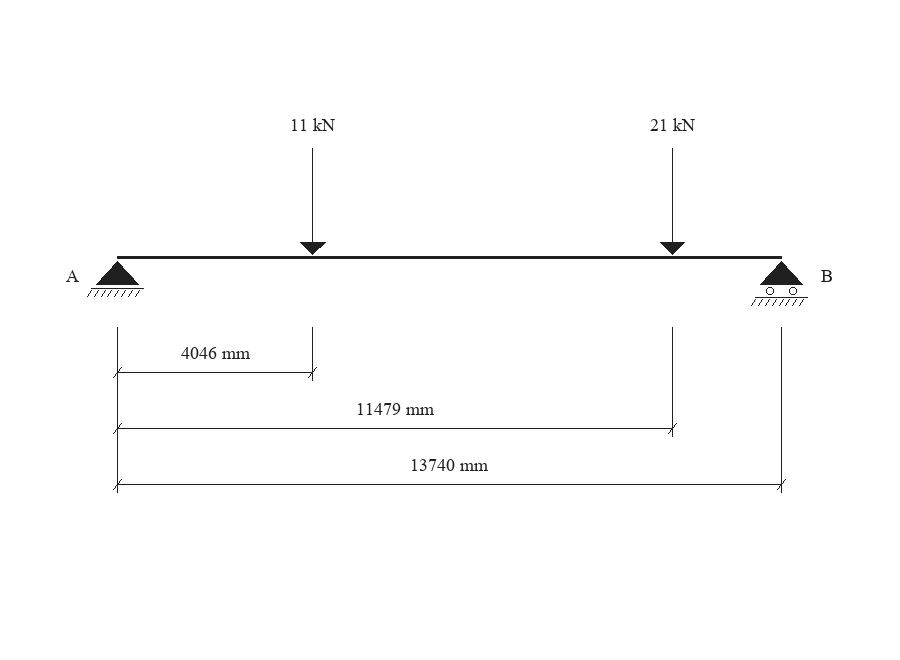pin_support: (87, 261, 144, 297)
point_load: (300, 148, 326, 255), (660, 148, 685, 255)
roller_support: (751, 261, 808, 306)
